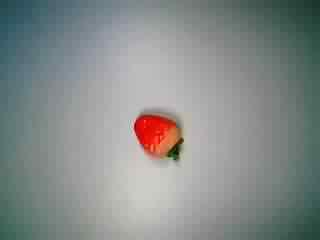strawberry: (127, 105, 195, 169)
